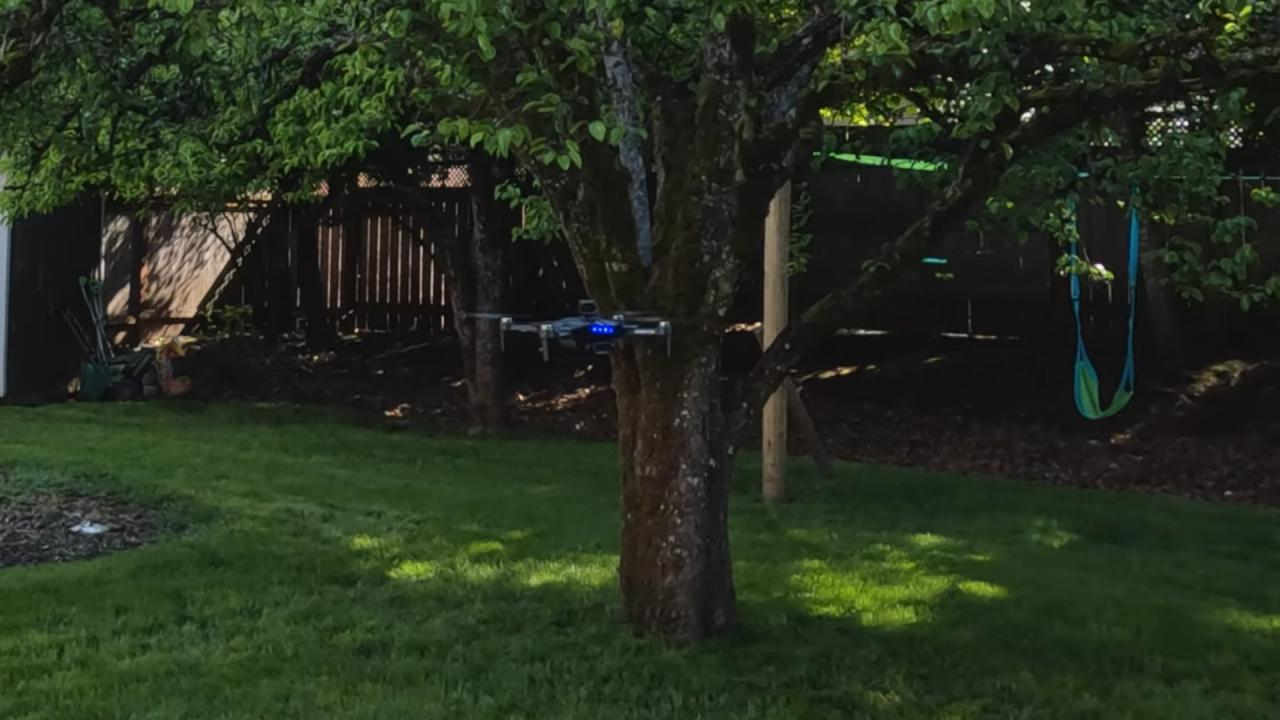Drone: (447, 289, 727, 368)
